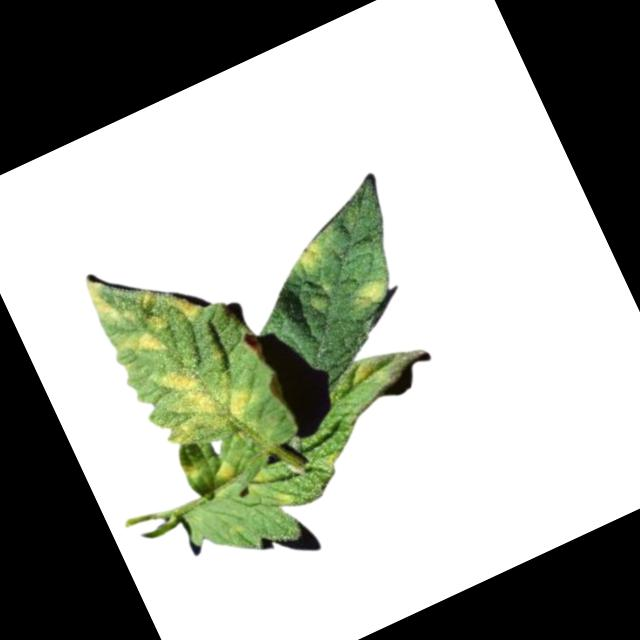Leaf_Mold: (144, 342, 263, 453), (80, 255, 164, 334), (108, 310, 177, 369), (345, 351, 394, 396), (290, 234, 333, 278), (348, 273, 394, 312), (167, 286, 204, 324), (208, 455, 243, 489), (177, 456, 201, 483)
